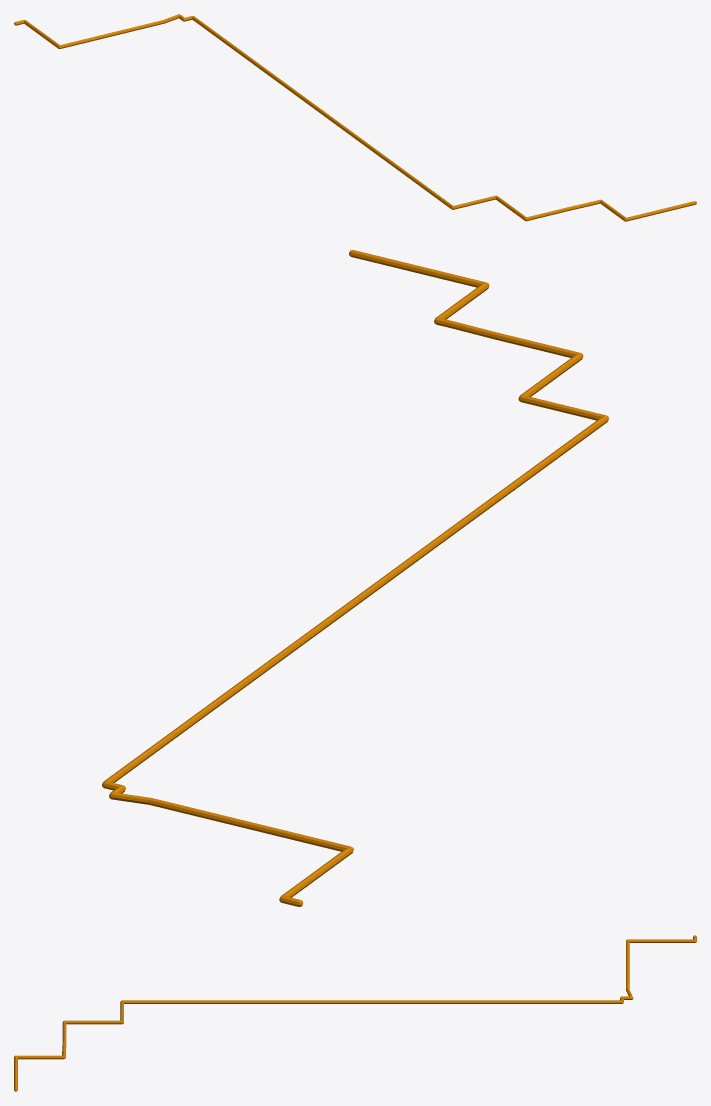
3 views of the same model, one above another, from view 1: azimuth 30°, elevation 25°; view 2: azimuth 150°, elevation 25°; view 3: azimuth 270°, elevation 25° (orthographic). The views are drawn at different scales.
Size of the model in its own units: 1901 by 20 by 3553.
